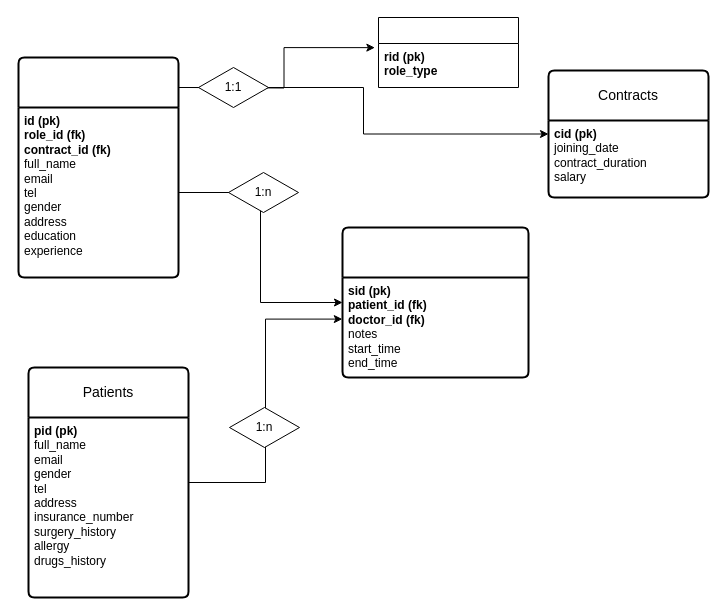
Image size: 726x616. Some labels were removed from this diagram. The box of each missing label's shape, as (x1, y1, x2, y2) in pixels:
Appointments: (341, 226, 529, 378)
Employees: (17, 56, 179, 278)
Roles: (378, 16, 518, 88)
